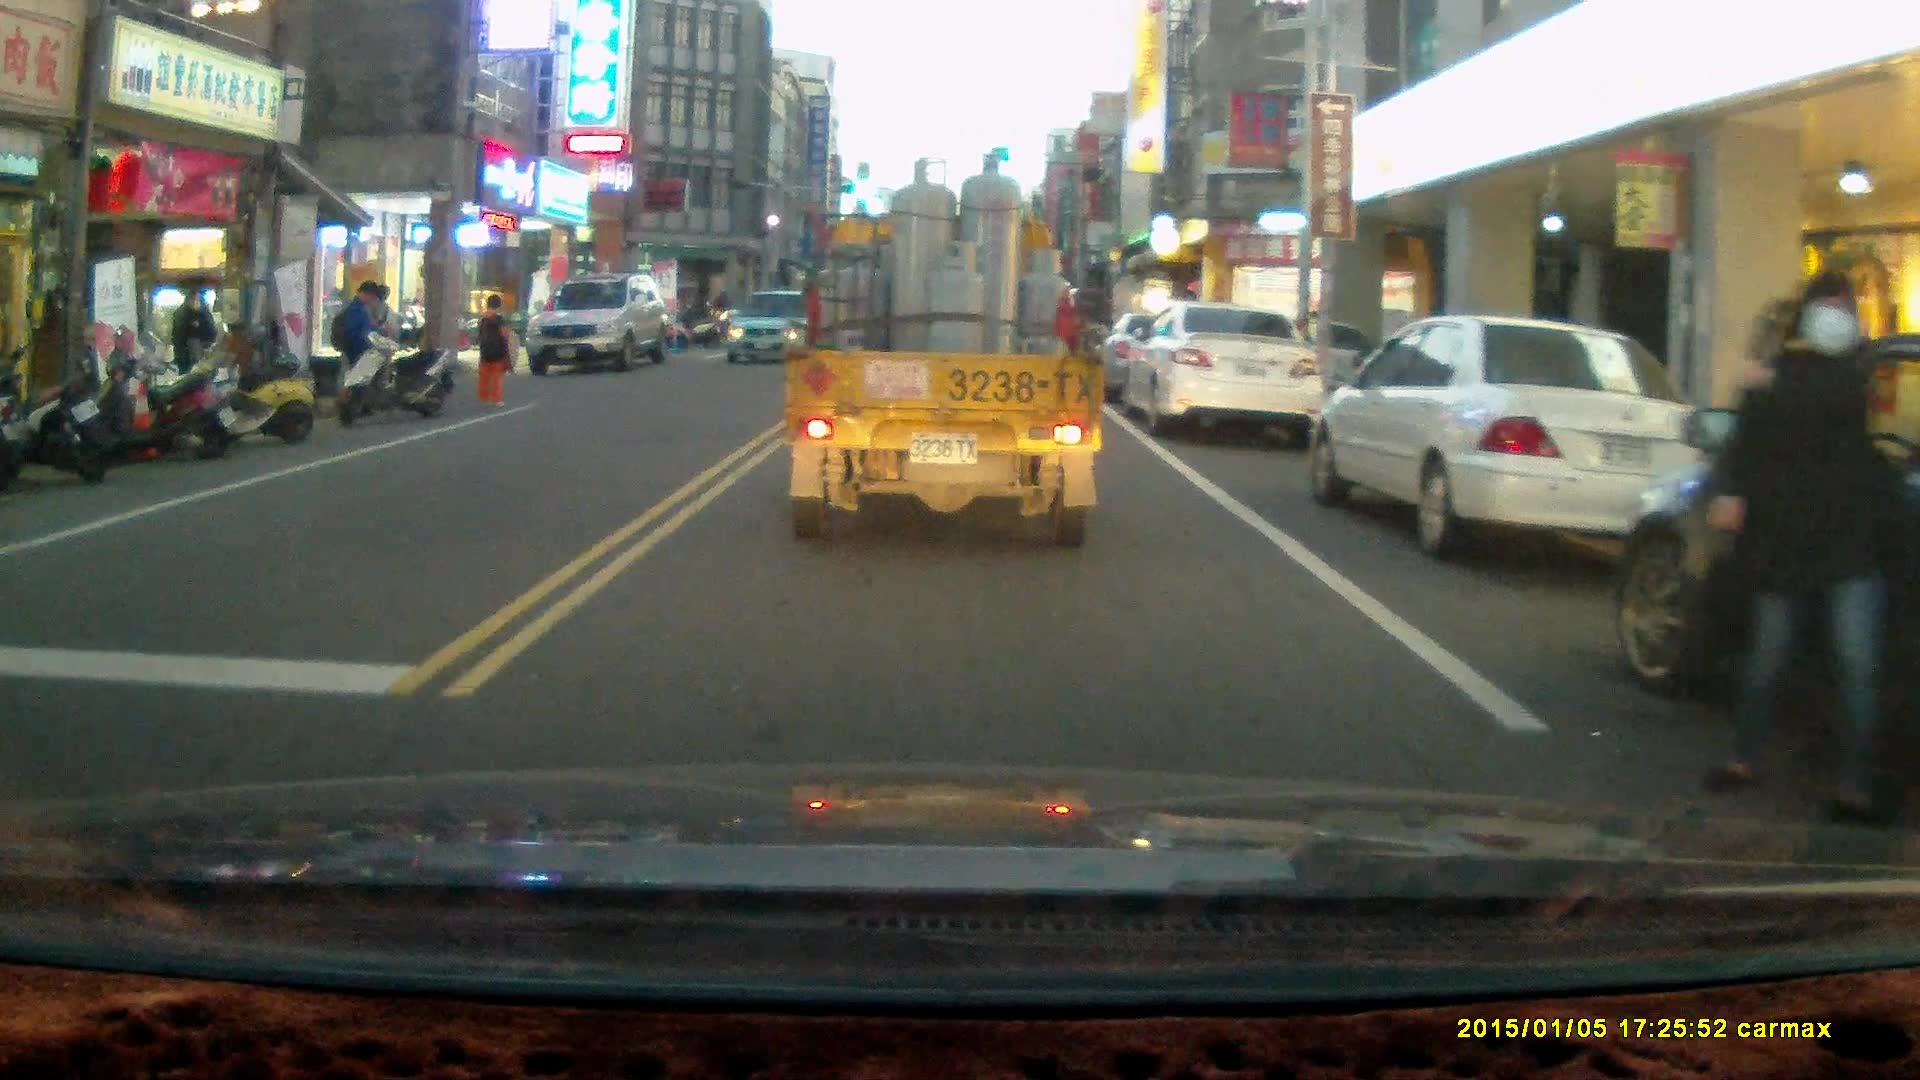pedestrian: (1695, 264, 1894, 840), (320, 278, 376, 414), (168, 285, 213, 425), (473, 292, 516, 411)
vehicle: (1610, 331, 1920, 798), (779, 154, 1108, 548), (1303, 313, 1734, 561), (1128, 304, 1321, 435), (529, 276, 678, 372), (724, 291, 826, 370)
